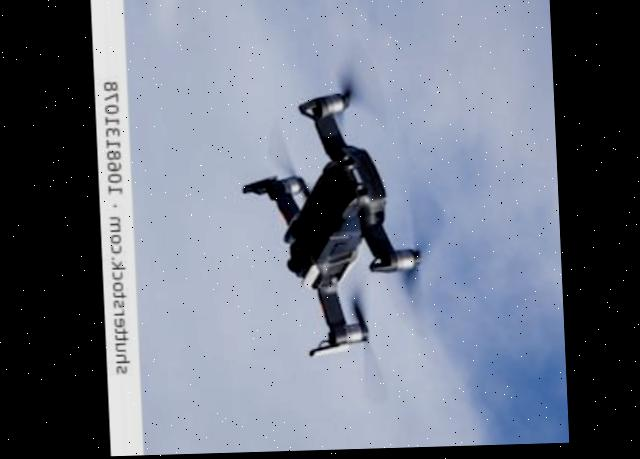drone: (90, 0, 435, 457)
